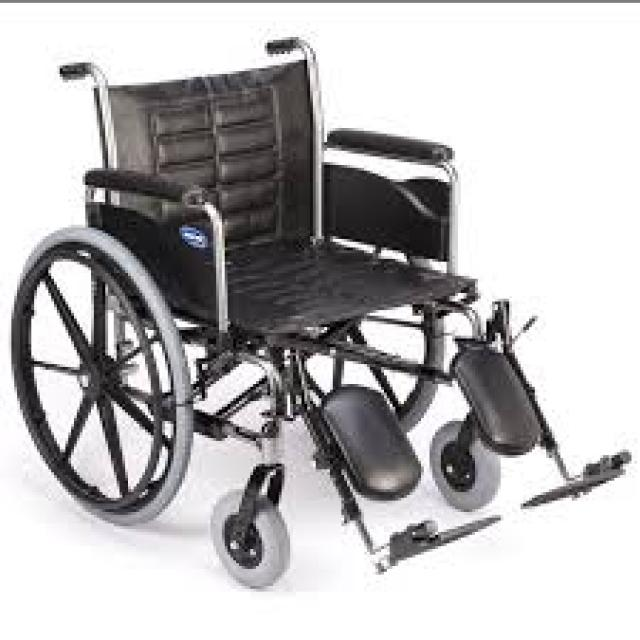wheelchairs: (9, 54, 617, 589)
